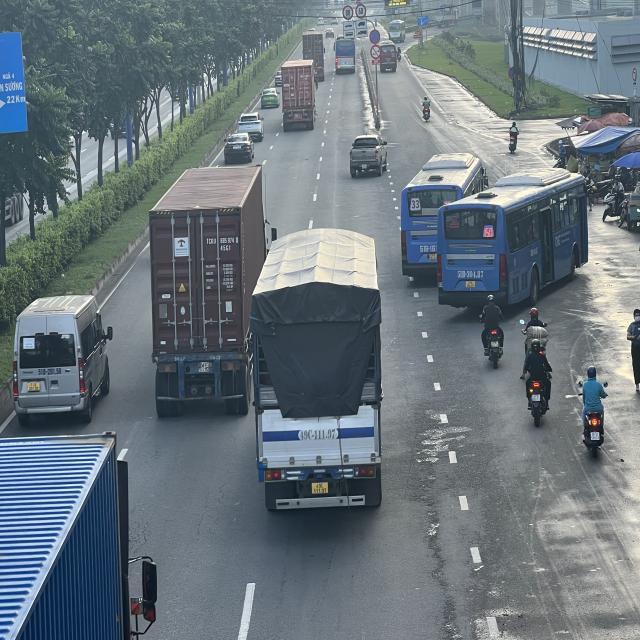car: (346, 133, 388, 176), (224, 133, 257, 165), (238, 111, 264, 140), (260, 87, 279, 109)
coach: (433, 172, 588, 320), (400, 156, 490, 283), (334, 35, 358, 71), (380, 40, 397, 72), (389, 19, 406, 44)
container: (0, 435, 155, 640), (148, 168, 268, 417), (280, 61, 316, 131), (303, 29, 326, 72)
truck: (250, 232, 382, 516)
van: (14, 292, 116, 424)
